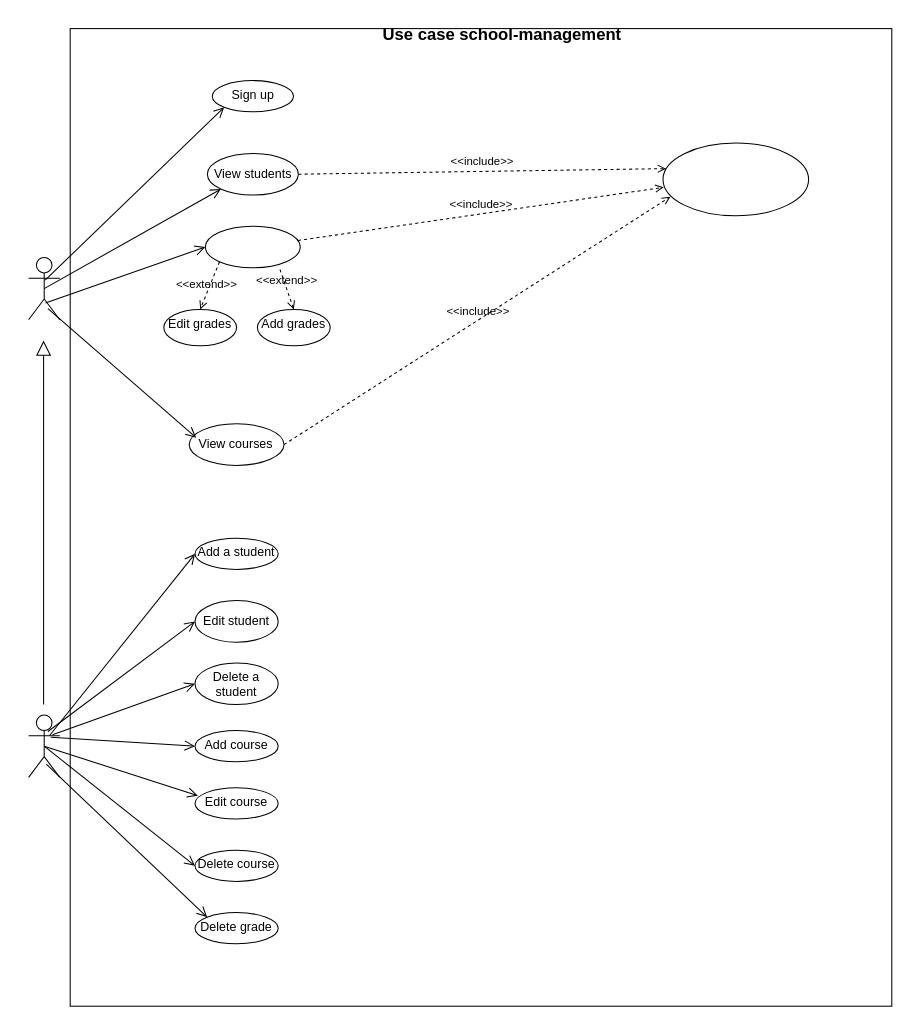
Some shapes in this 910 by 1024 pixel diagram are drawn without their labels. Each missing label, with the centre of its shape:
Admin: [44,745]
Authentication: [735,179]
Professor: [44,288]
View grades: [252,246]
